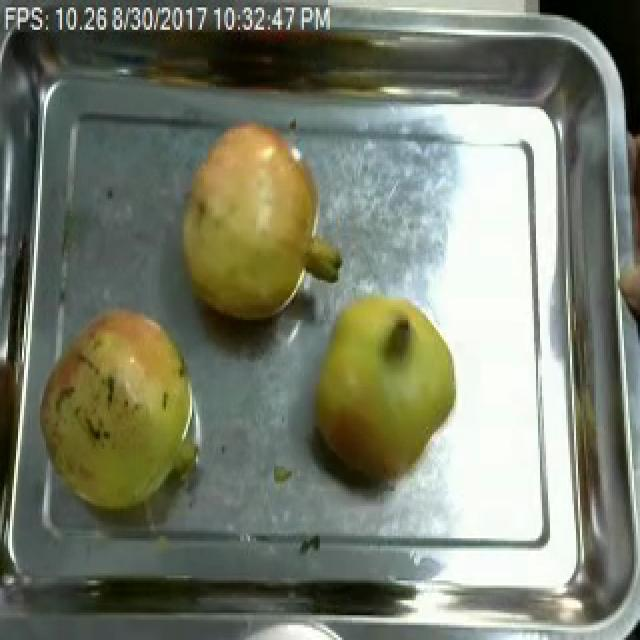fruit: (32, 300, 212, 531), (170, 105, 342, 332), (306, 280, 466, 496)
